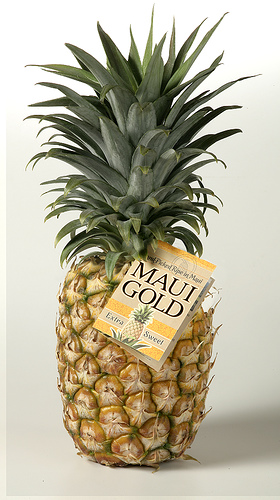pineapple: (23, 6, 263, 468)
